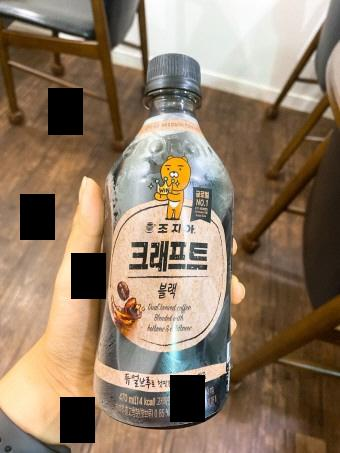georgiacraft_black: (100, 49, 237, 429)
